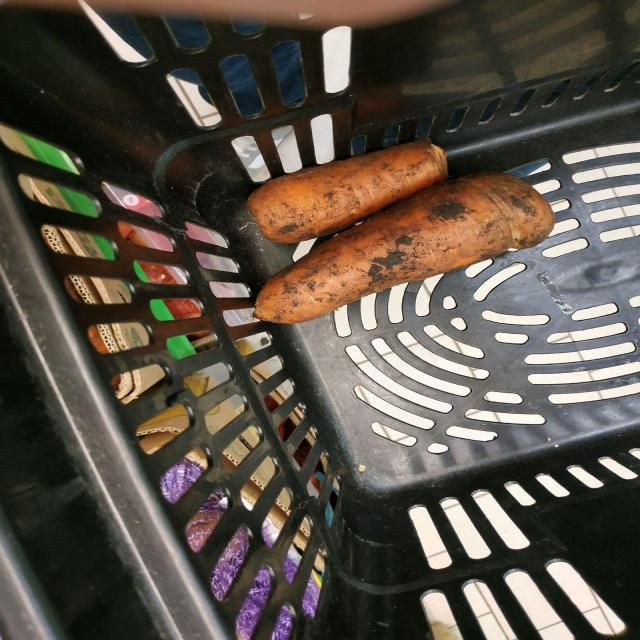carrot: (190, 143, 608, 424), (185, 106, 590, 304)
